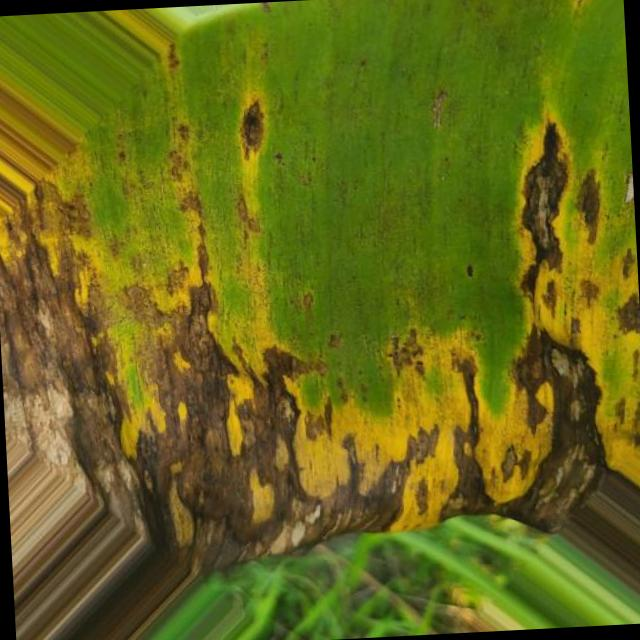Banana_Black_Sigatoka: (0, 127, 355, 555), (340, 111, 640, 543)
